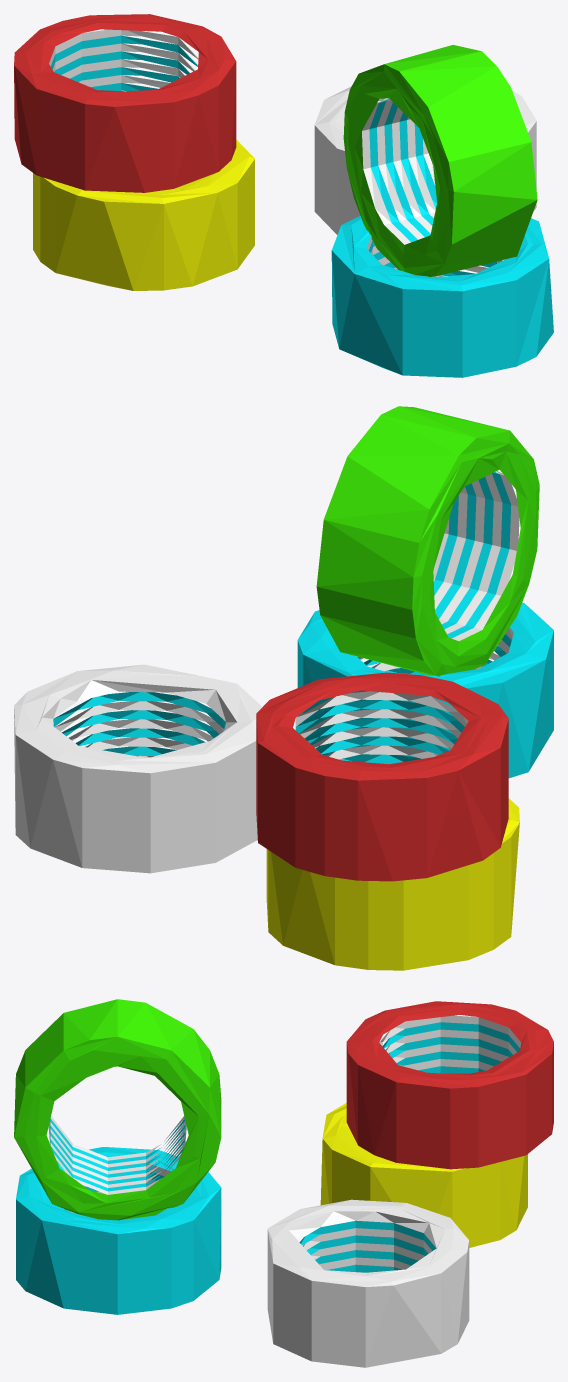
The model's file is ductTape.glb.
3 views of the same model, one above another, from view 1: azimuth 30°, elevation 25°; view 2: azimuth 150°, elevation 25°; view 3: azimuth 270°, elevation 25° (orthographic). The views are drawn at different scales.
Parts seen in each view (by area): view 1: ductTape:Cylinder006, ductTape:Cylinder010, ductTape:Cylinder008, ductTape:Cylinder009, ductTape:Cylinder007; view 2: ductTape:Cylinder006, ductTape:Cylinder010, ductTape:Cylinder007, ductTape:Cylinder009, ductTape:Cylinder008; view 3: ductTape:Cylinder010, ductTape:Cylinder007, ductTape:Cylinder006, ductTape:Cylinder008, ductTape:Cylinder009.
Boxes of the visible parts, bbox=[...] form: ductTape:Cylinder006: bbox=[343, 45, 537, 276]; ductTape:Cylinder010: bbox=[14, 14, 236, 192]; ductTape:Cylinder008: bbox=[331, 216, 553, 377]; ductTape:Cylinder009: bbox=[33, 139, 254, 290]; ductTape:Cylinder007: bbox=[314, 86, 536, 234]; ductTape:Cylinder006: bbox=[316, 406, 539, 676]; ductTape:Cylinder010: bbox=[256, 672, 508, 881]; ductTape:Cylinder007: bbox=[14, 664, 262, 873]; ductTape:Cylinder009: bbox=[266, 798, 519, 970]; ductTape:Cylinder008: bbox=[297, 602, 553, 778]; ductTape:Cylinder010: bbox=[346, 1001, 553, 1169]; ductTape:Cylinder007: bbox=[267, 1199, 469, 1367]; ductTape:Cylinder006: bbox=[14, 999, 221, 1220]; ductTape:Cylinder008: bbox=[16, 1147, 221, 1314]; ductTape:Cylinder009: bbox=[320, 1103, 527, 1247].
Bounding box in the file's own units: 368842 × 215078 × 413782.
